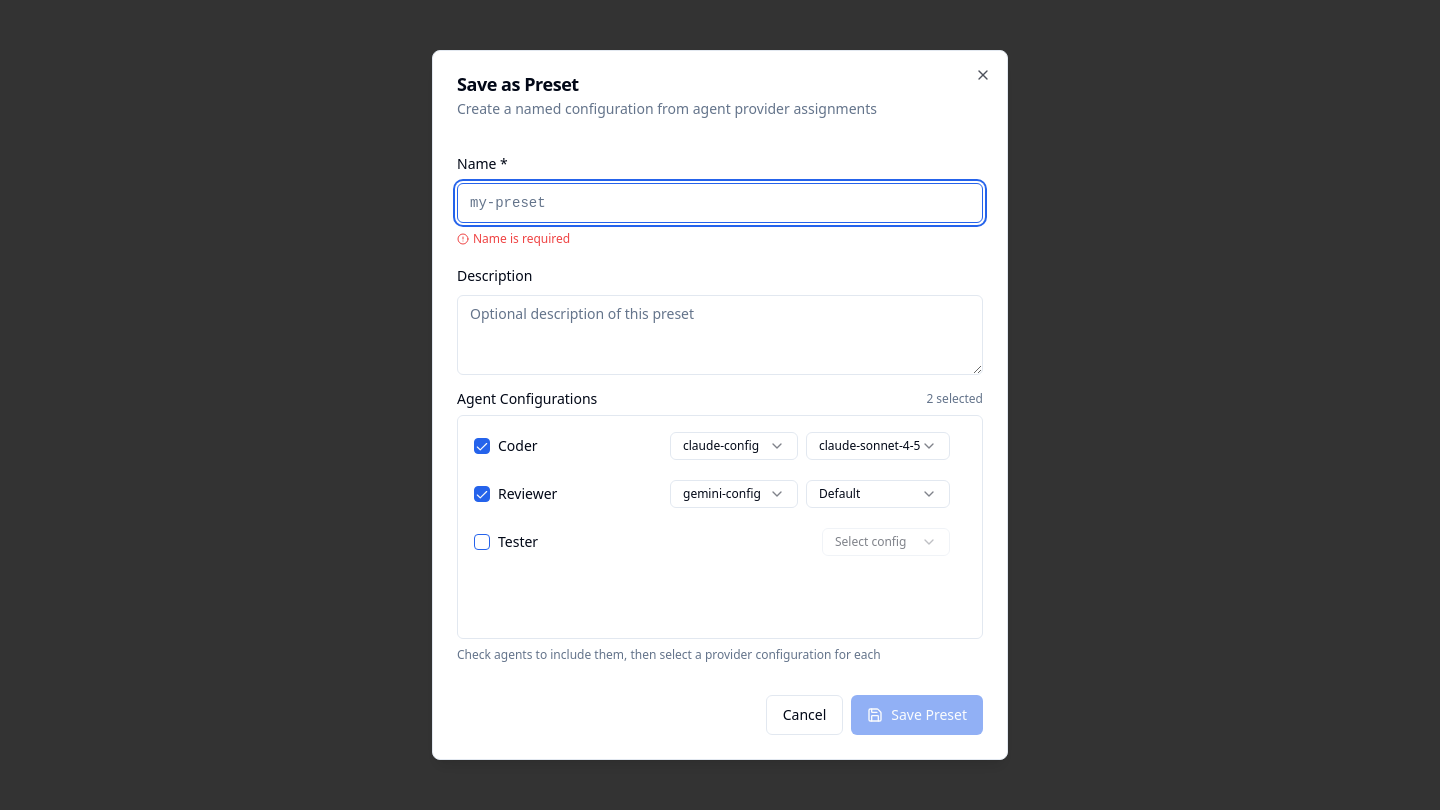
Test: PresetDialog › model override selection › resets model override to Default when provider config changes
The width and height of the screenshot is (1440, 810).
Click the dropdown with test id "preset-config-select-agent-1" at (734, 446), box [670,432,798,460]
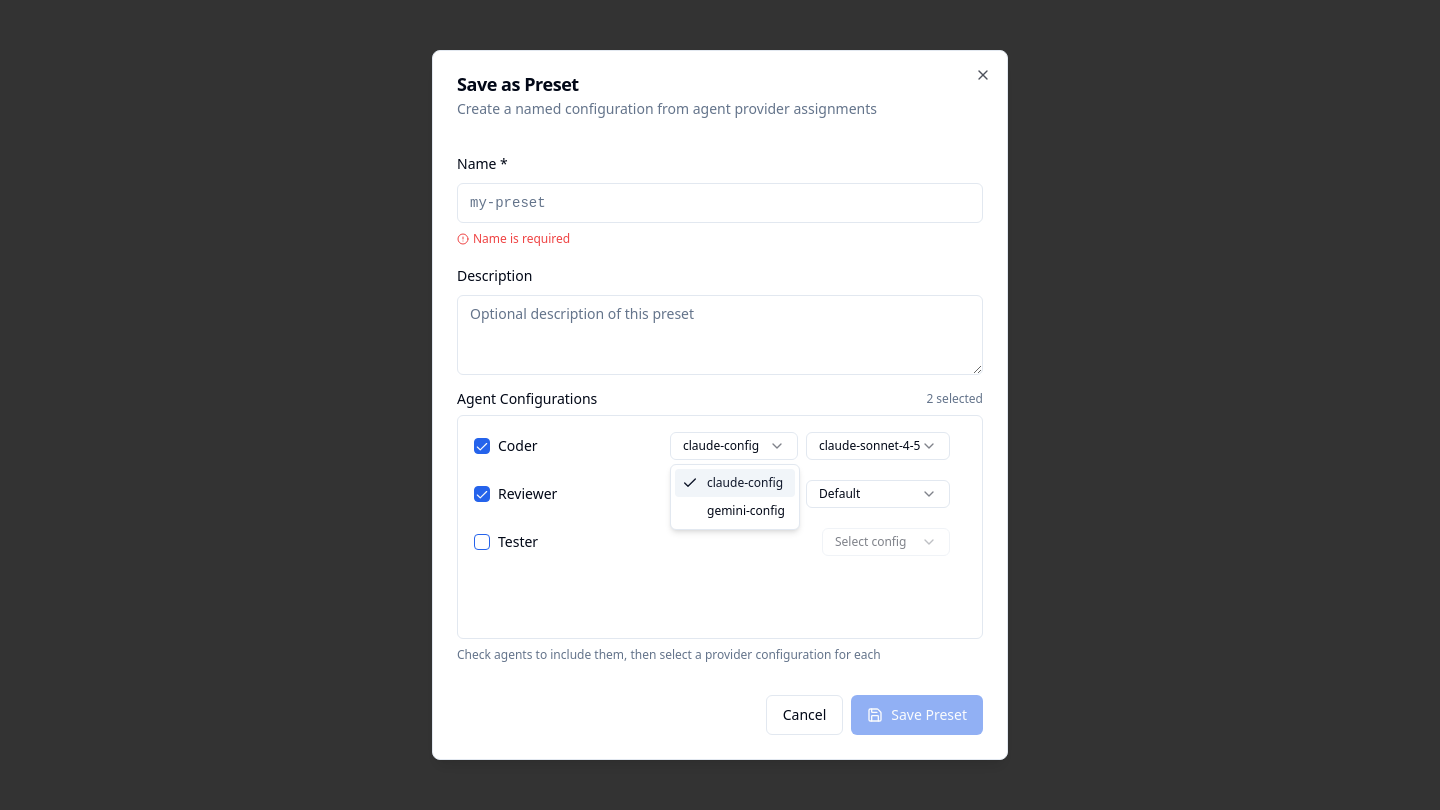
Click the option "gemini-config" at (746, 510), box [707,502,785,519]
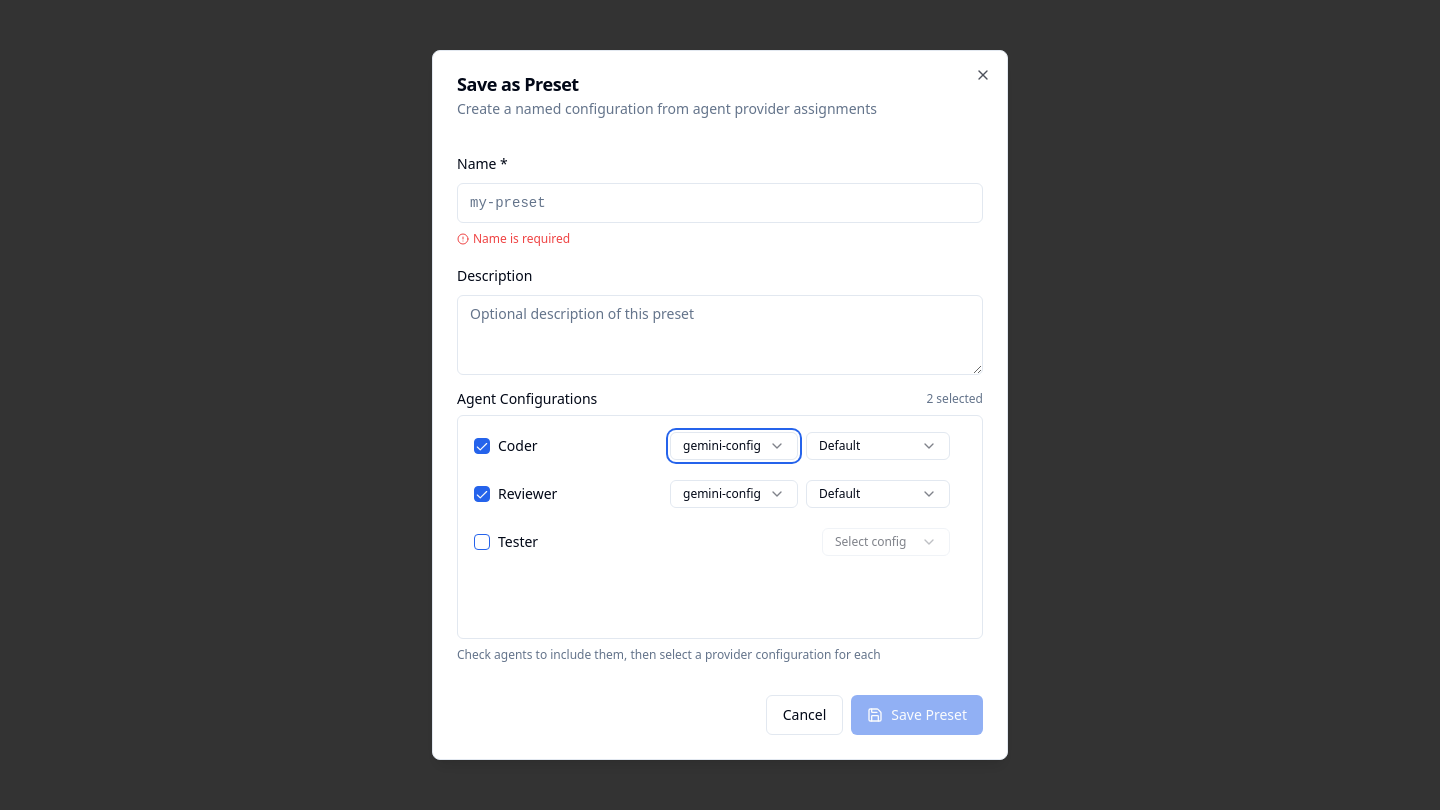
Expected: the dropdown with test id "preset-model-select-agent-1" reads "Default", [806,432,950,460]
